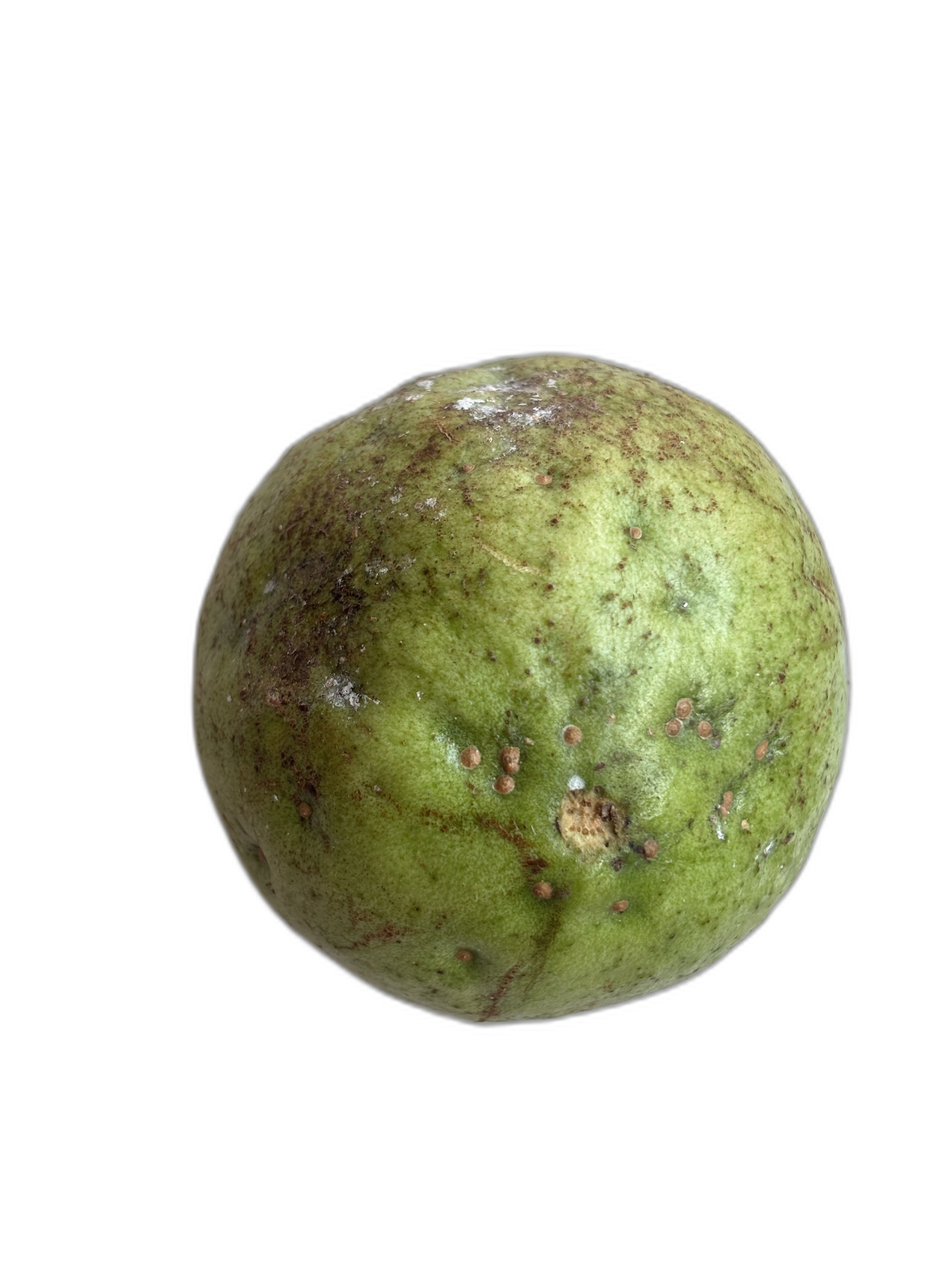guava: (58, 204, 841, 1060)
